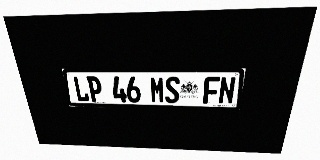4: (111, 76, 127, 102)
6: (125, 76, 141, 103)
F: (203, 77, 220, 104)
L: (72, 76, 90, 102)
M: (150, 76, 165, 103)
N: (218, 77, 236, 104)
P: (86, 76, 103, 102)
S: (165, 76, 180, 103)
